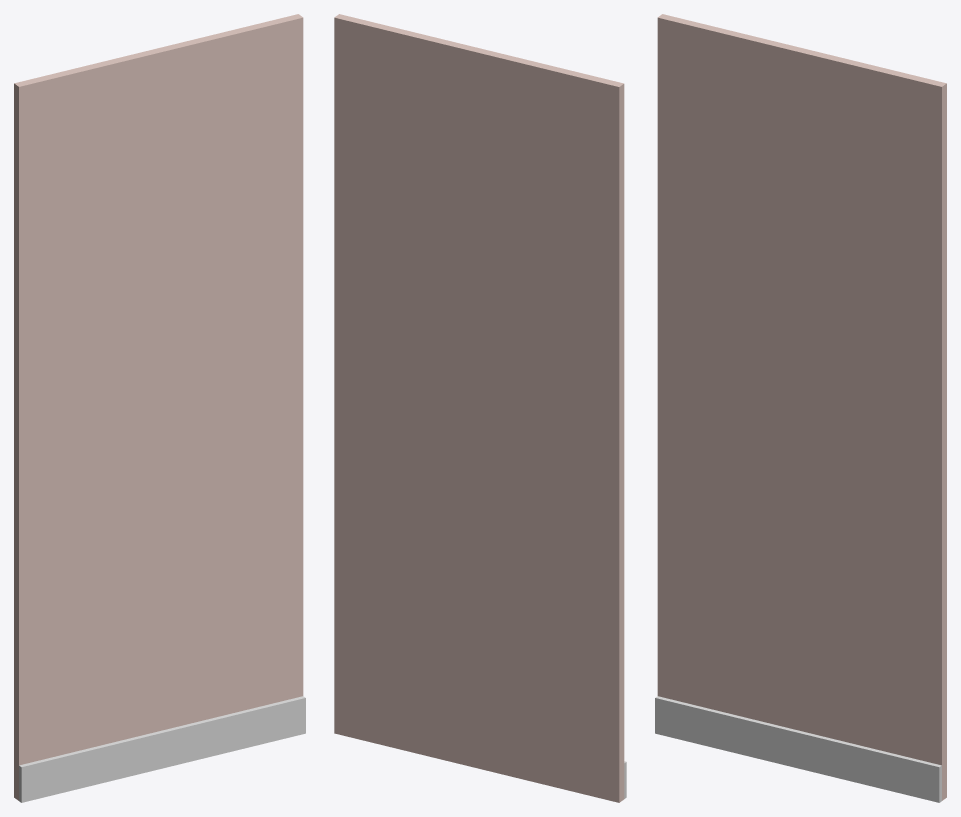
The model's file is pared.fbx.
The picture shows the model from 3 angles, left to right: view 1: azimuth 30°, elevation 25°; view 2: azimuth 150°, elevation 25°; view 3: azimuth 330°, elevation 25°; orthographic projection.
Visible parts, largest first — view 1: Room, Baseboard; view 2: Room; view 3: Room, Baseboard.
Boxes of the visible parts, x1=… form: Room: x1=14, y1=14, x2=303, y2=800; Baseboard: x1=19, y1=696, x2=305, y2=802; Room: x1=334, y1=14, x2=624, y2=802; Room: x1=657, y1=14, x2=946, y2=800; Baseboard: x1=655, y1=696, x2=941, y2=802.
Size of the model in its own units: 100 by 240 by 4.5.
